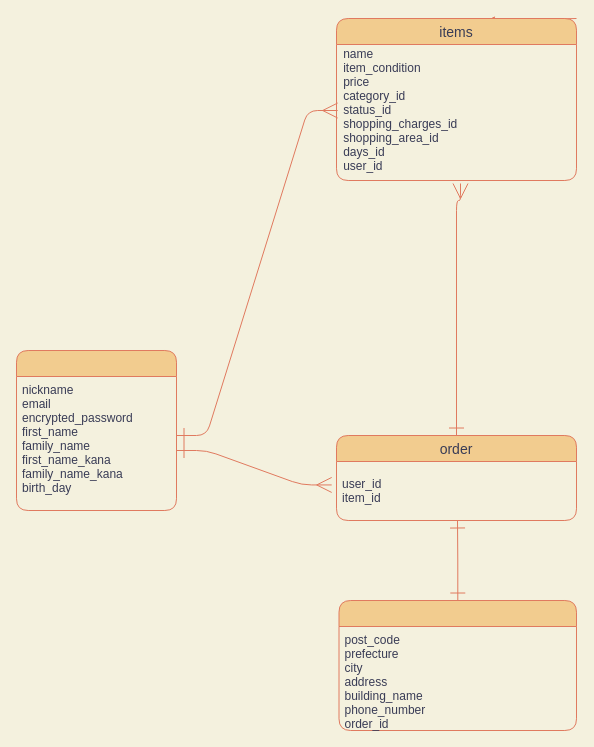
Some shapes in this 594 by 747 pixel diagram are drawn without their labels. The box of each missing label's shape, as (x1, y1, x2, y2) in pixels:
destinations: (338, 600, 576, 730)
users: (16, 350, 176, 510)
